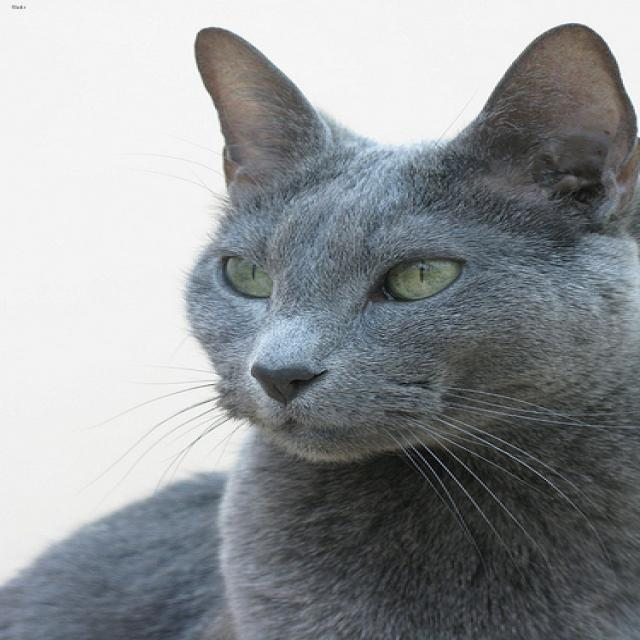cat: (186, 22, 633, 457)
